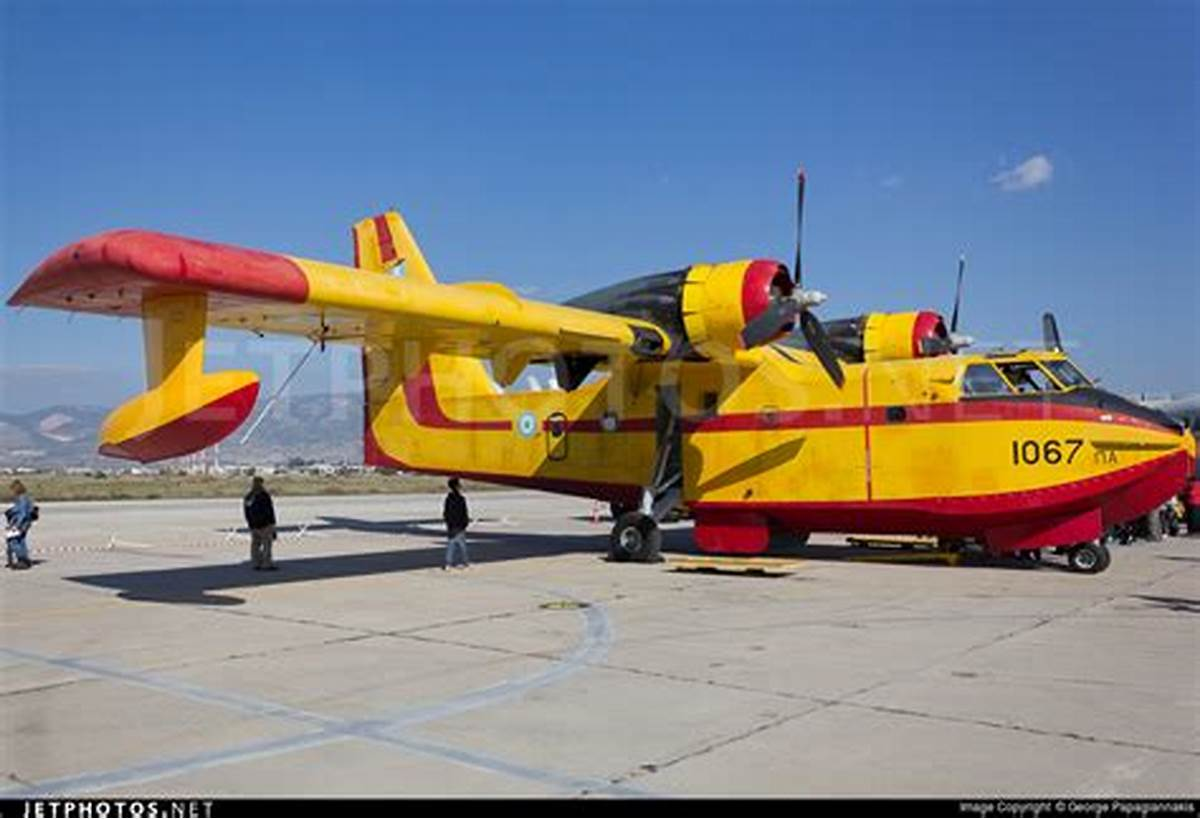Aeronef_de_service: (9, 158, 1200, 580)
